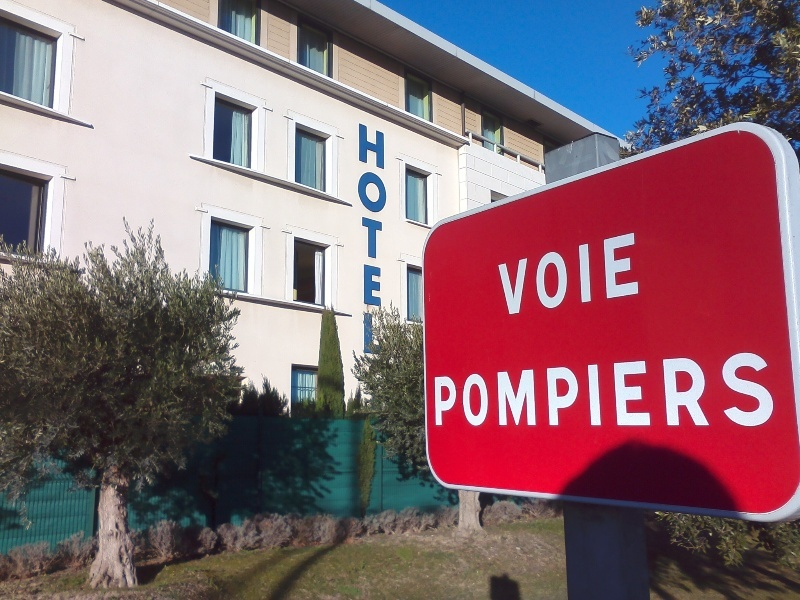text: (369, 121, 384, 308), (357, 121, 368, 308), (625, 231, 641, 317), (385, 121, 392, 308), (497, 231, 512, 317), (513, 231, 528, 317), (529, 231, 544, 317), (545, 231, 560, 317), (561, 231, 576, 317), (577, 231, 592, 317), (593, 231, 608, 317), (609, 231, 624, 317), (449, 351, 464, 429), (465, 351, 480, 429), (481, 351, 496, 429), (497, 351, 512, 429), (513, 351, 528, 429), (529, 351, 544, 429), (545, 351, 560, 429), (561, 351, 576, 429), (577, 351, 592, 429), (593, 351, 608, 429), (609, 351, 624, 429), (625, 351, 640, 429), (641, 351, 656, 429), (657, 351, 672, 429), (673, 351, 688, 429), (689, 351, 704, 429), (705, 351, 720, 429), (721, 351, 736, 429), (737, 351, 752, 429), (753, 351, 768, 429), (434, 351, 448, 429), (369, 311, 384, 357), (769, 351, 777, 429), (385, 311, 391, 357), (363, 311, 368, 357)
